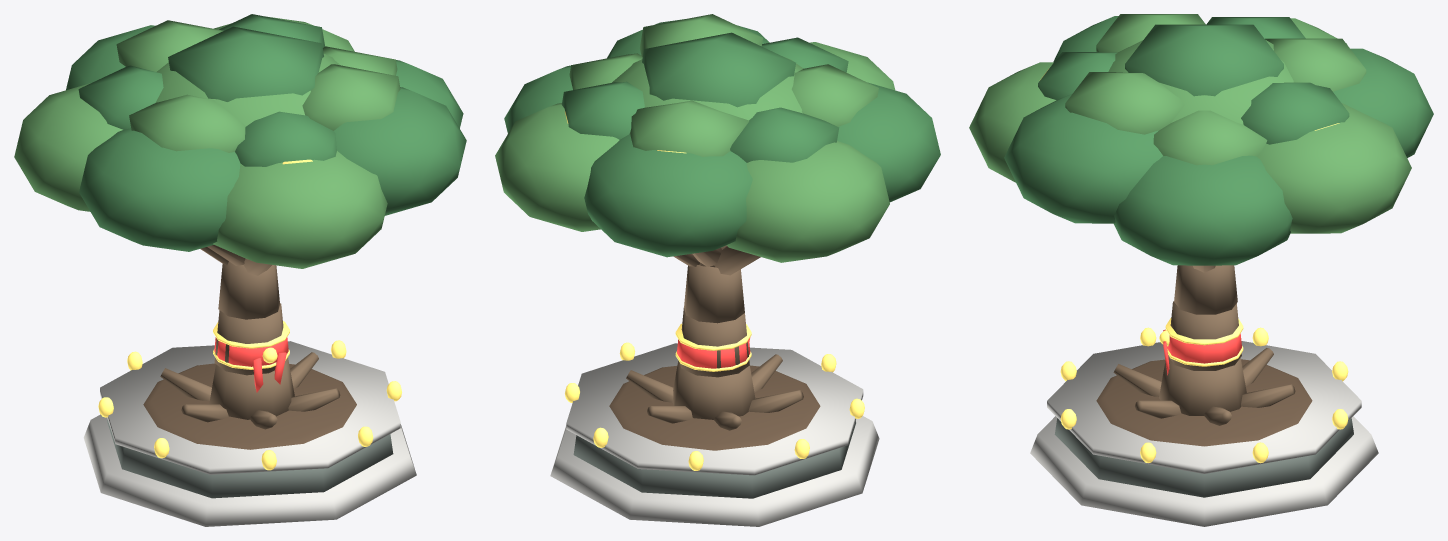
The model's file is cay_bo_de_uoc_nguyen.glb.
The picture shows the model from 3 angles, left to right: view 1: azimuth 30°, elevation 25°; view 2: azimuth 150°, elevation 25°; view 3: azimuth 270°, elevation 25°; orthographic projection. The views are drawn at different scales.
Visible parts, largest first — view 1: cay_bo_de_uoc_nguyen; view 2: cay_bo_de_uoc_nguyen; view 3: cay_bo_de_uoc_nguyen.
Boxes of the visible parts, x1=… form: cay_bo_de_uoc_nguyen: x1=14, y1=14, x2=466, y2=526; cay_bo_de_uoc_nguyen: x1=495, y1=14, x2=940, y2=526; cay_bo_de_uoc_nguyen: x1=969, y1=14, x2=1433, y2=526.
Size of the model in its own units: 6.11 by 6.34 by 6.27.
